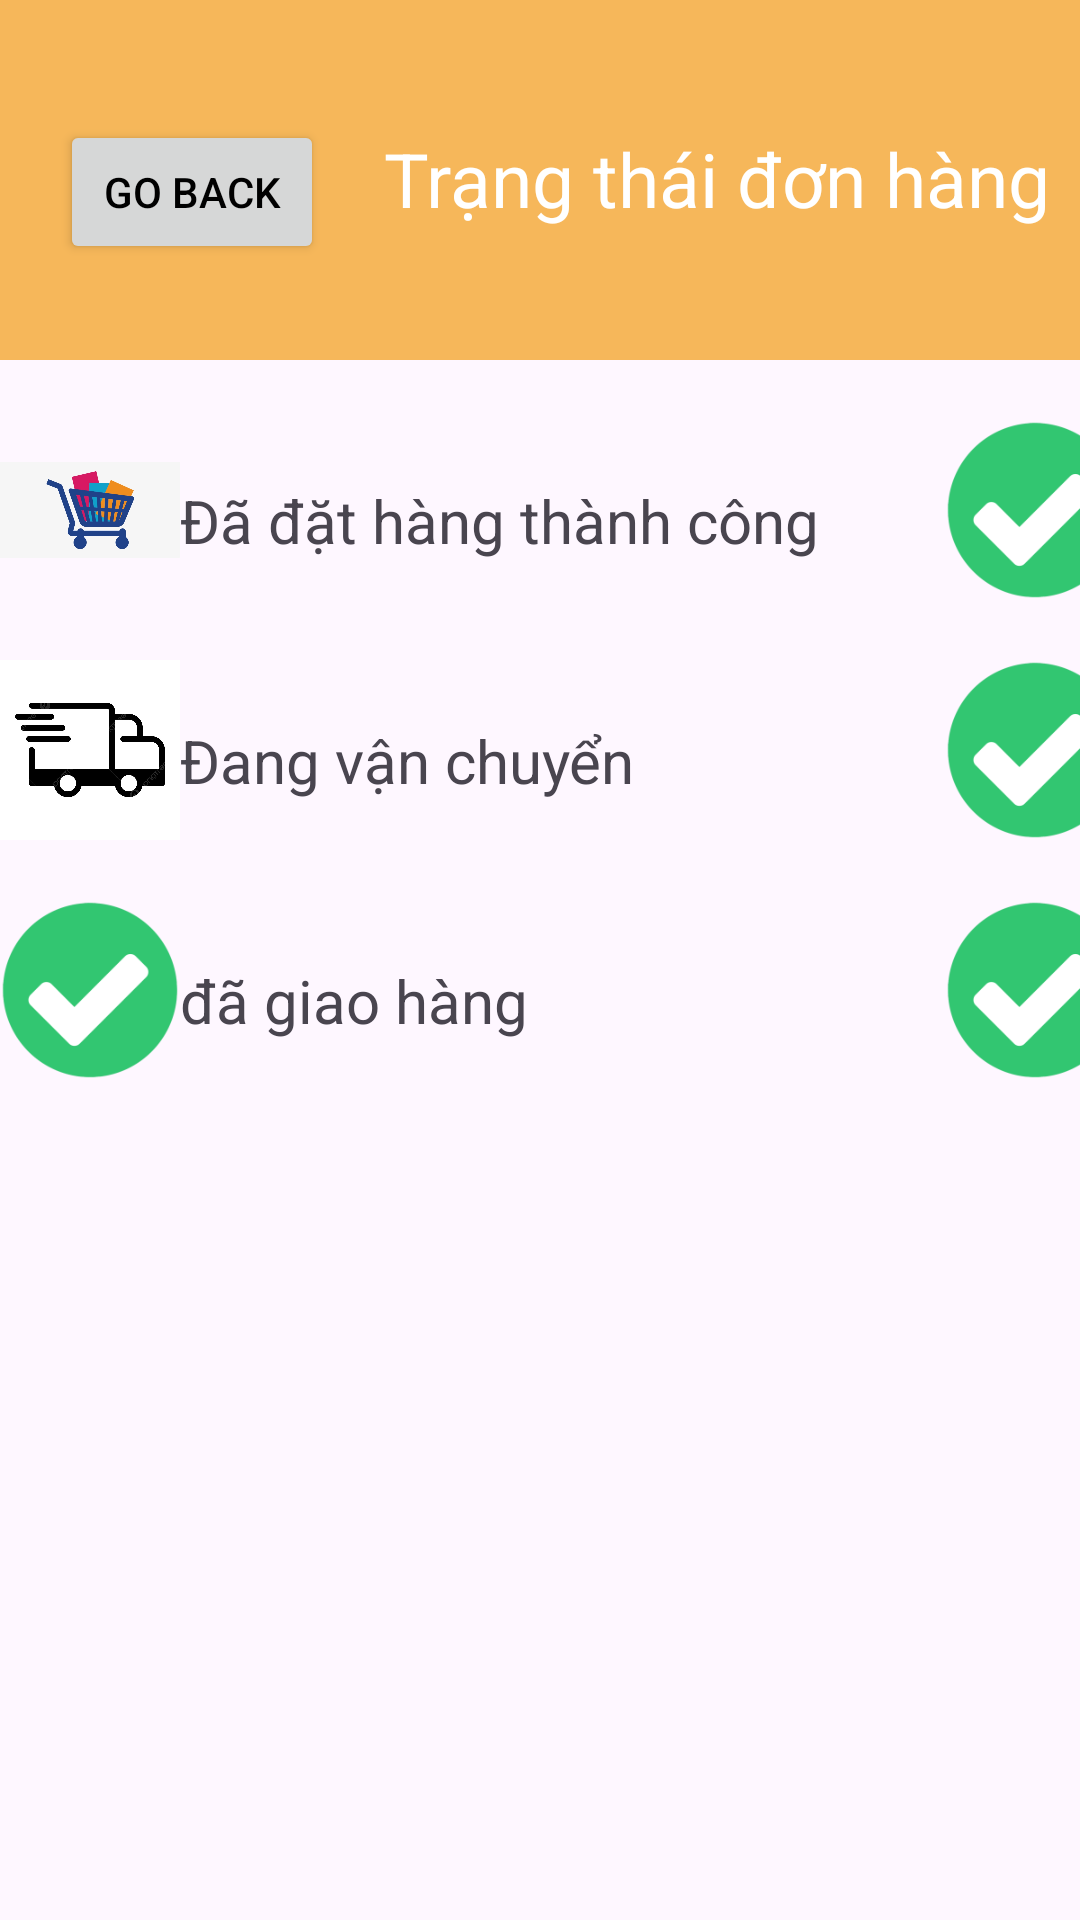

Point at icon controls on the screen. Image size 1080px x 1920px, points as [x,y].
order da dat hang: [90,510]
order dang van chuyen: [90,750]
